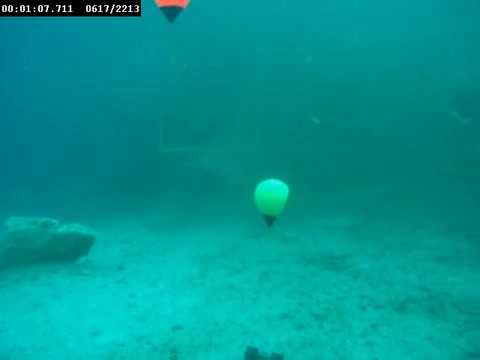buoy_green: (253, 177, 287, 230)
